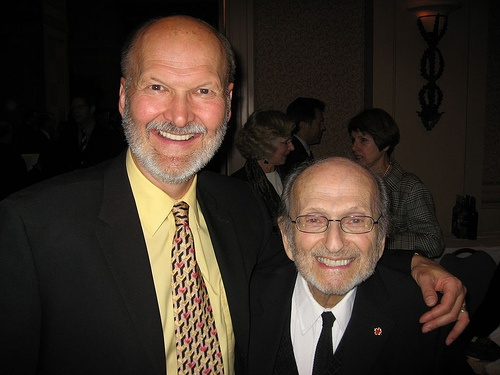head: (117, 13, 236, 191), (277, 154, 390, 305), (345, 106, 405, 171), (240, 108, 295, 170), (293, 98, 330, 144), (62, 93, 99, 131)
person: (1, 8, 298, 375), (271, 154, 479, 373), (347, 107, 444, 257), (230, 107, 298, 221), (50, 94, 121, 169), (278, 97, 326, 173)
